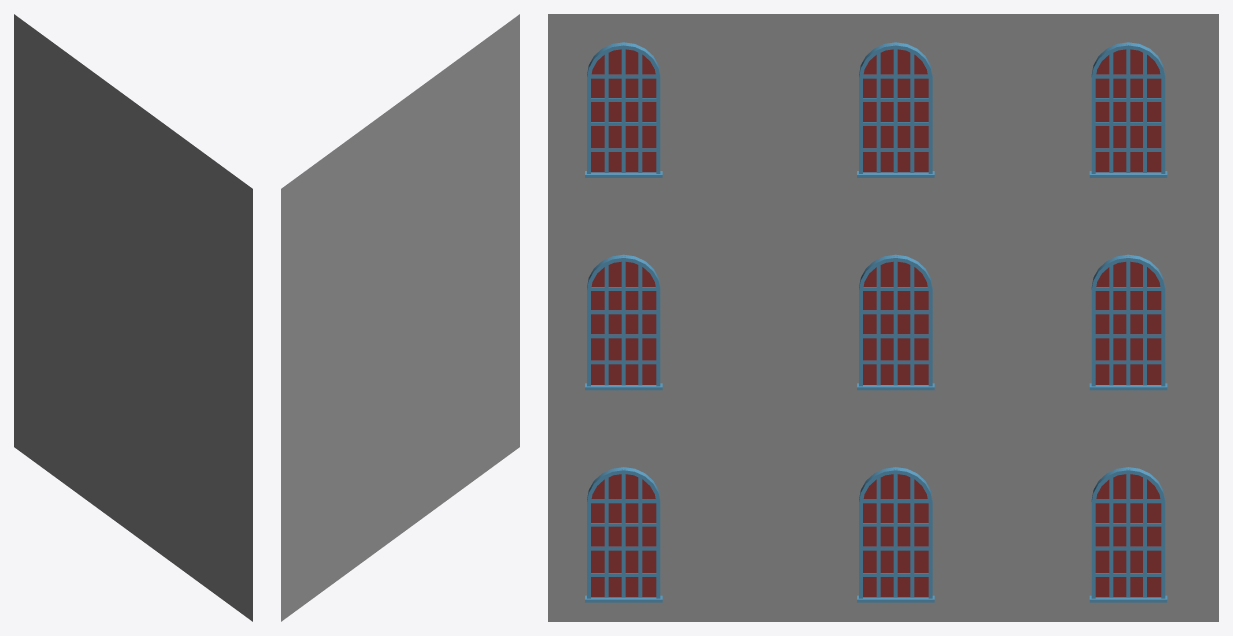
Rendered from Prop_Wallext_9x9_9Windows_01.fbx.
3 renders of one model, left to right at view 1: azimuth 30°, elevation 25°; view 2: azimuth 150°, elevation 25°; view 3: azimuth 270°, elevation 25°, orthographic. The views are drawn at different scales.
Visible parts, largest first — view 1: Prop_Wallext_9x9_9Windows_01; view 2: Prop_Wallext_9x9_9Windows_01; view 3: Prop_Wallext_9x9_9Windows_01.
Boxes of the visible parts, bbox=[...] form: Prop_Wallext_9x9_9Windows_01: bbox=[14, 14, 252, 621]; Prop_Wallext_9x9_9Windows_01: bbox=[281, 14, 519, 621]; Prop_Wallext_9x9_9Windows_01: bbox=[548, 14, 1218, 621].
Bounding box in the file's own units: 0.2277 × 9 × 9.
